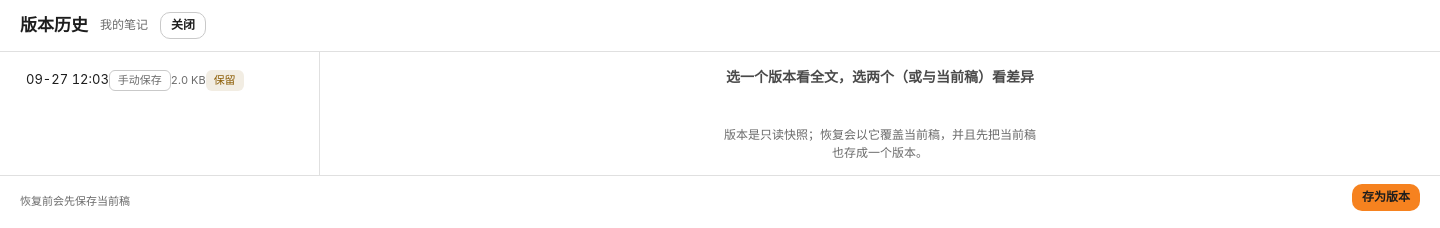
Test: 行菜单与对比 › 选一个版本看全文
Step 1. Click the button "09-27 12:03 手动保存 2.0 KB 保留" → (135, 80), box x1=20 y1=68 x2=250 y2=92
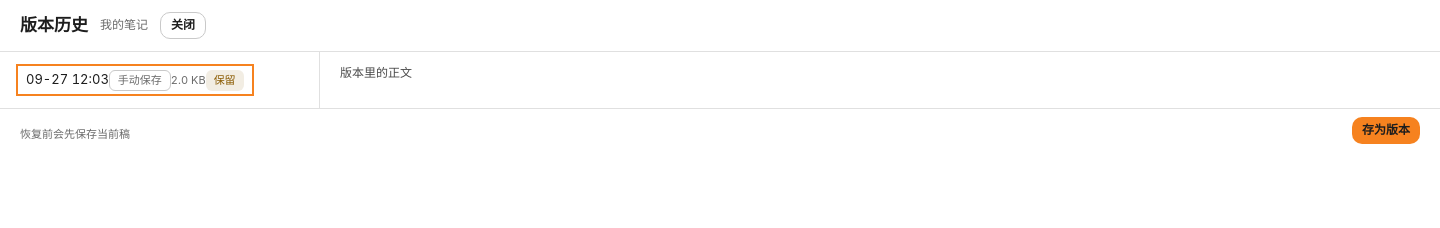
Expected: the text "版本里的正文" is shown, x1=340 y1=66 x2=412 y2=80
